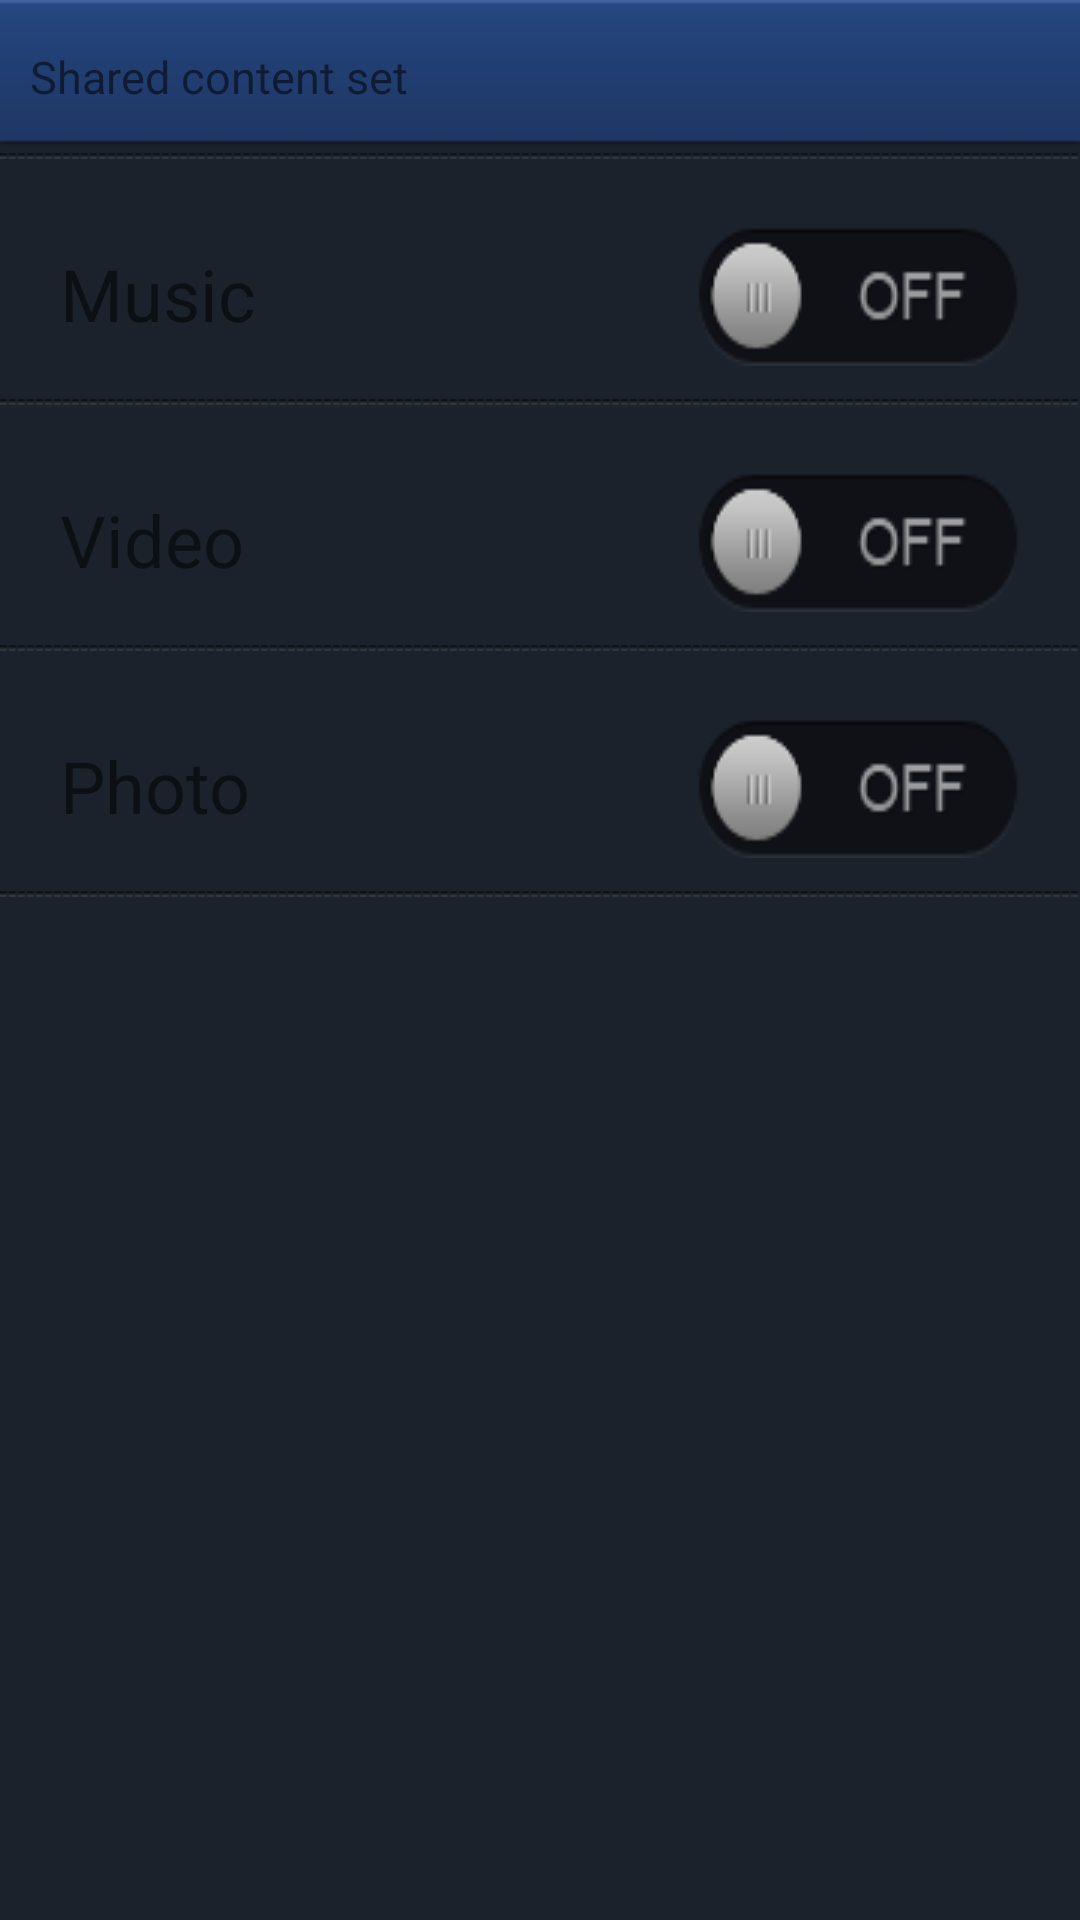

Where icons sit on this 1080 × 1920 app screen, as [left=x1, top=y1, right=x2, bottom=y2]:
setting on off: [left=699, top=228, right=1017, bottom=366], [left=698, top=474, right=1017, bottom=612], [left=699, top=720, right=1017, bottom=858]
